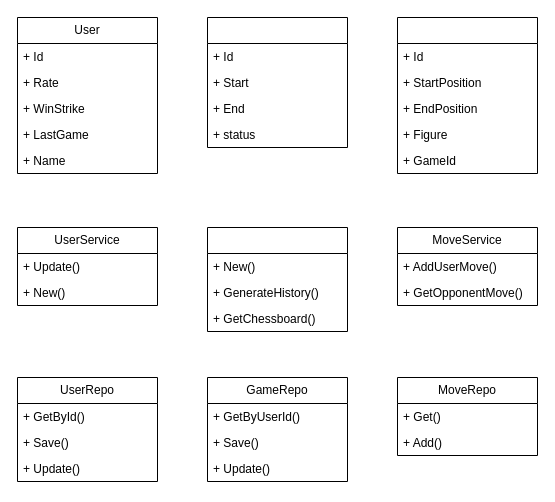
This 555x502 diagram has some shape labels left out. Here are the shapes that lost their labels. From the top down, the box of each, then its label:
(206, 16, 348, 148): Game
(396, 16, 538, 174): Move
(206, 226, 348, 332): GameService
